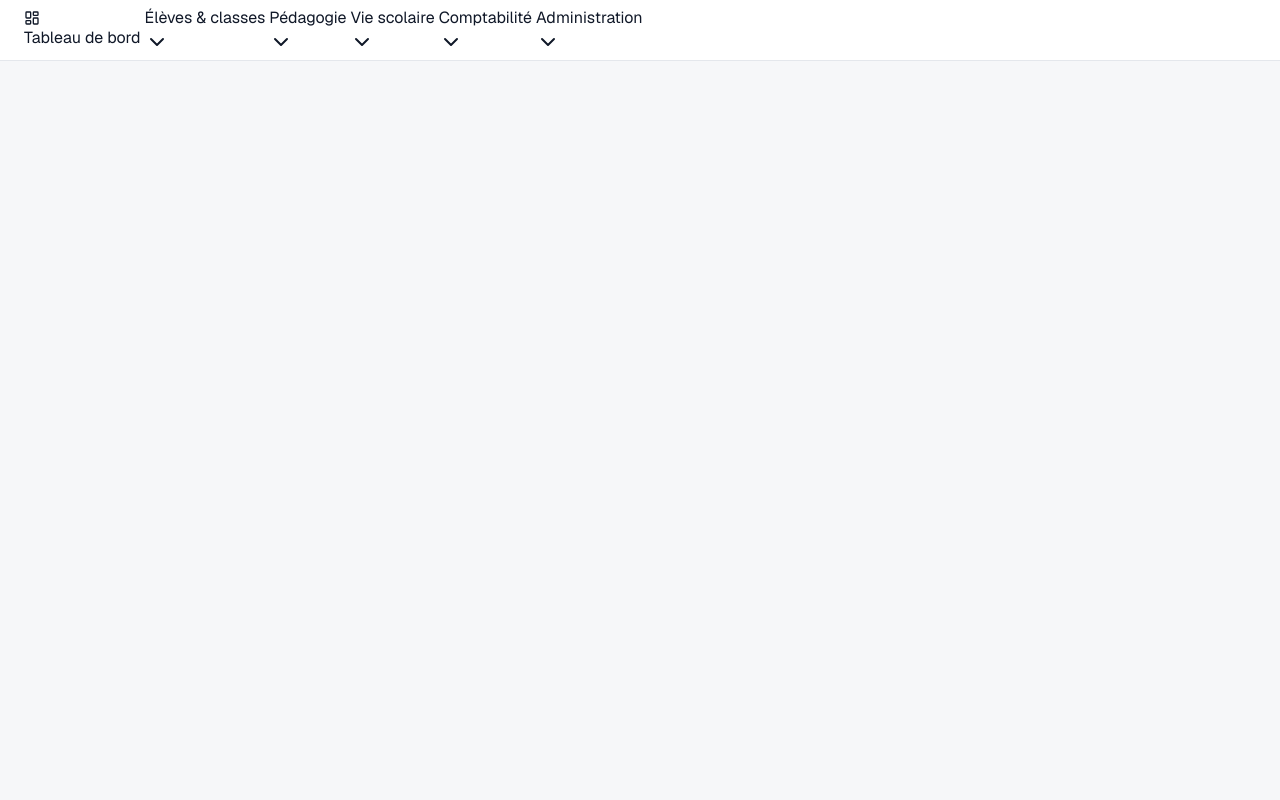
Scenario: HorizontalNav › closes with the same button, Escape, or a click elsewhere
The width and height of the screenshot is (1280, 800).
Click the button "Pédagogie": (308, 30) [269,6,346,54]
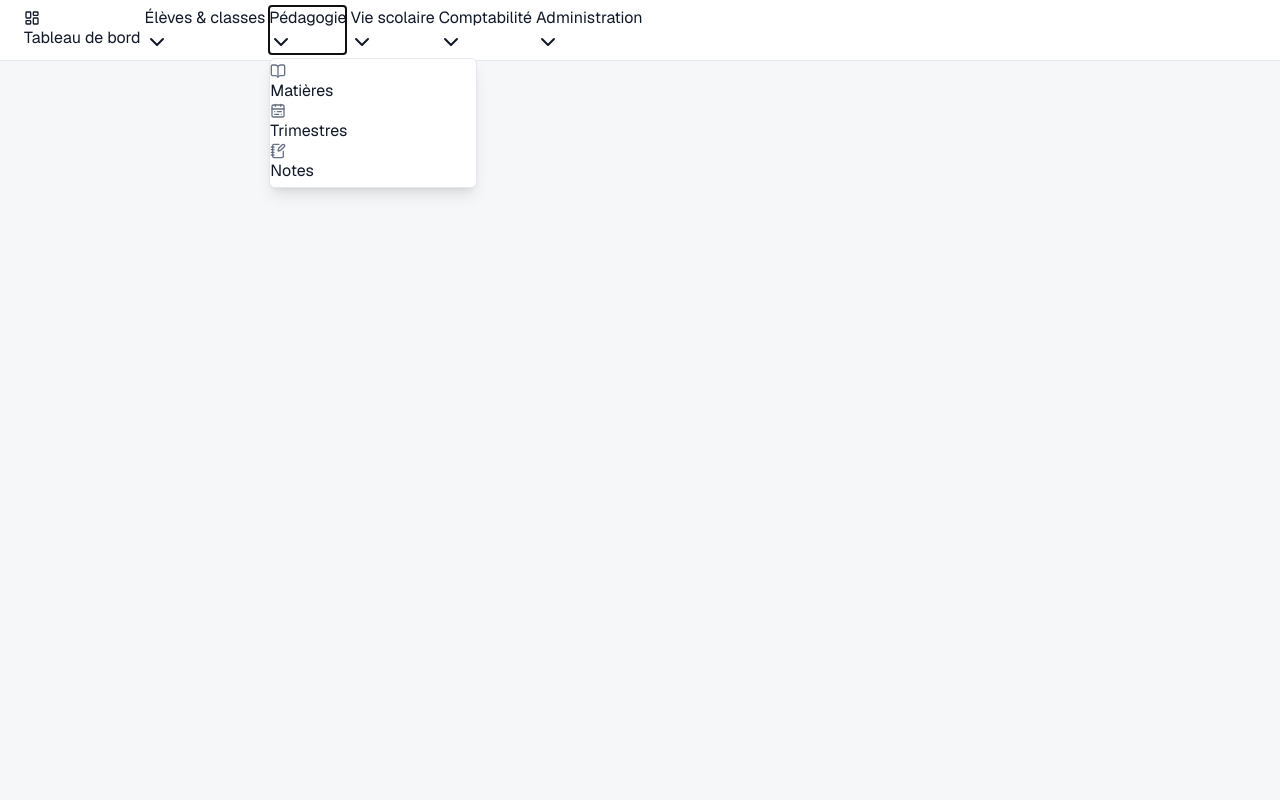
Click the button "Pédagogie": (308, 30) [269,6,346,54]
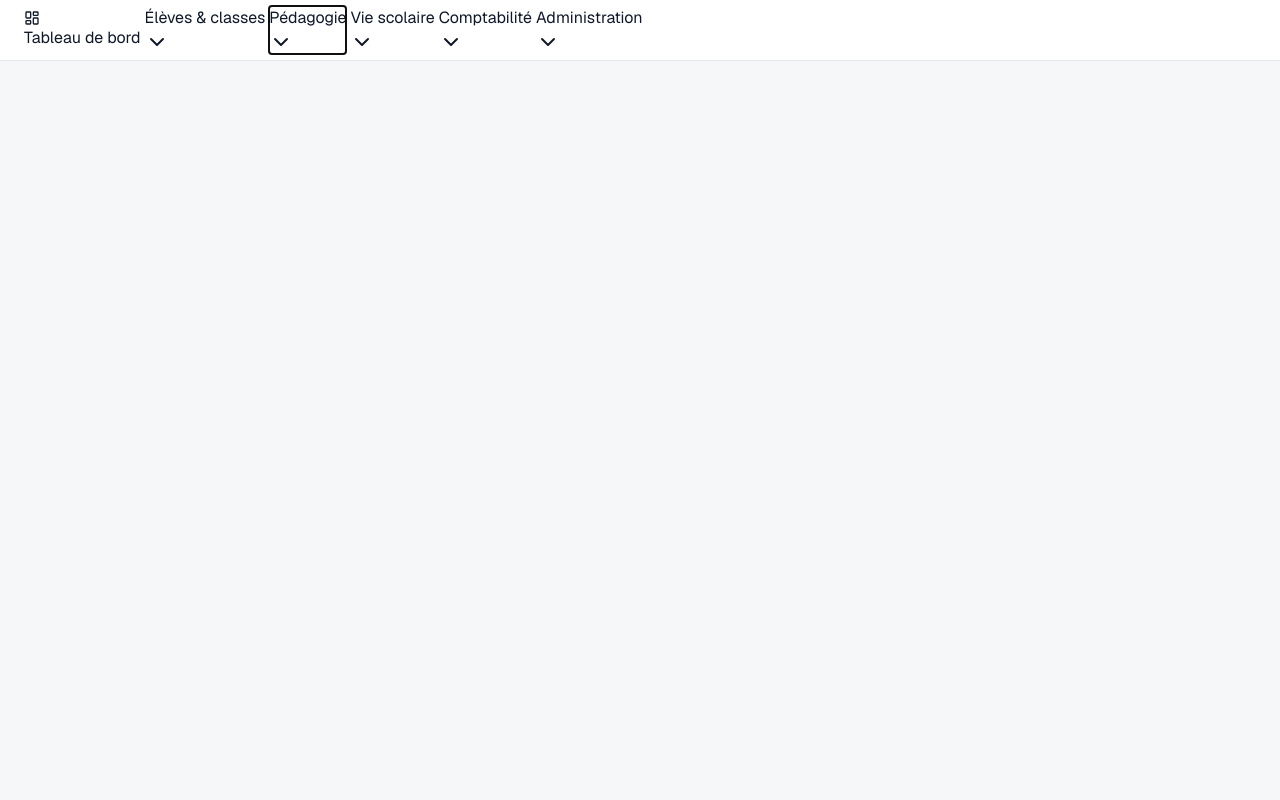
Check: the link "Notes" is gone
Click the button "Pédagogie": (308, 30) [269,6,346,54]
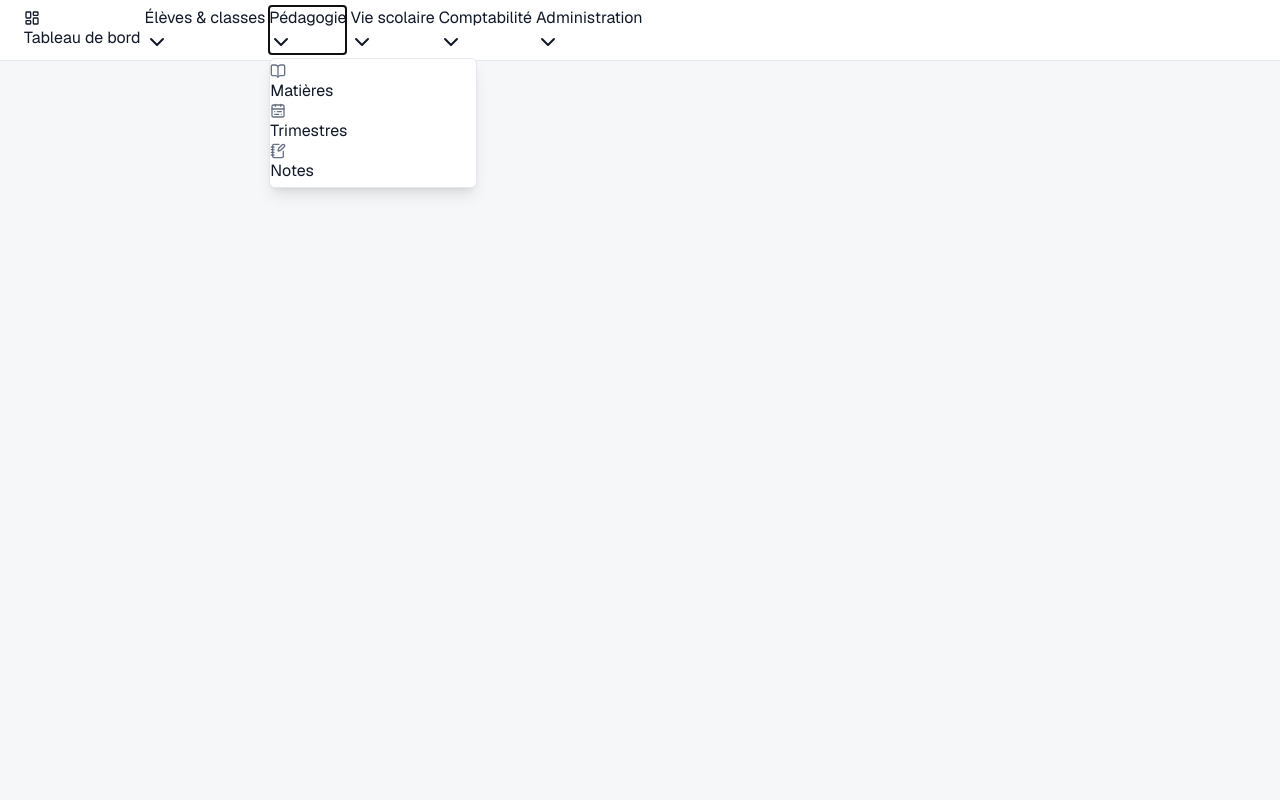
Press Escape
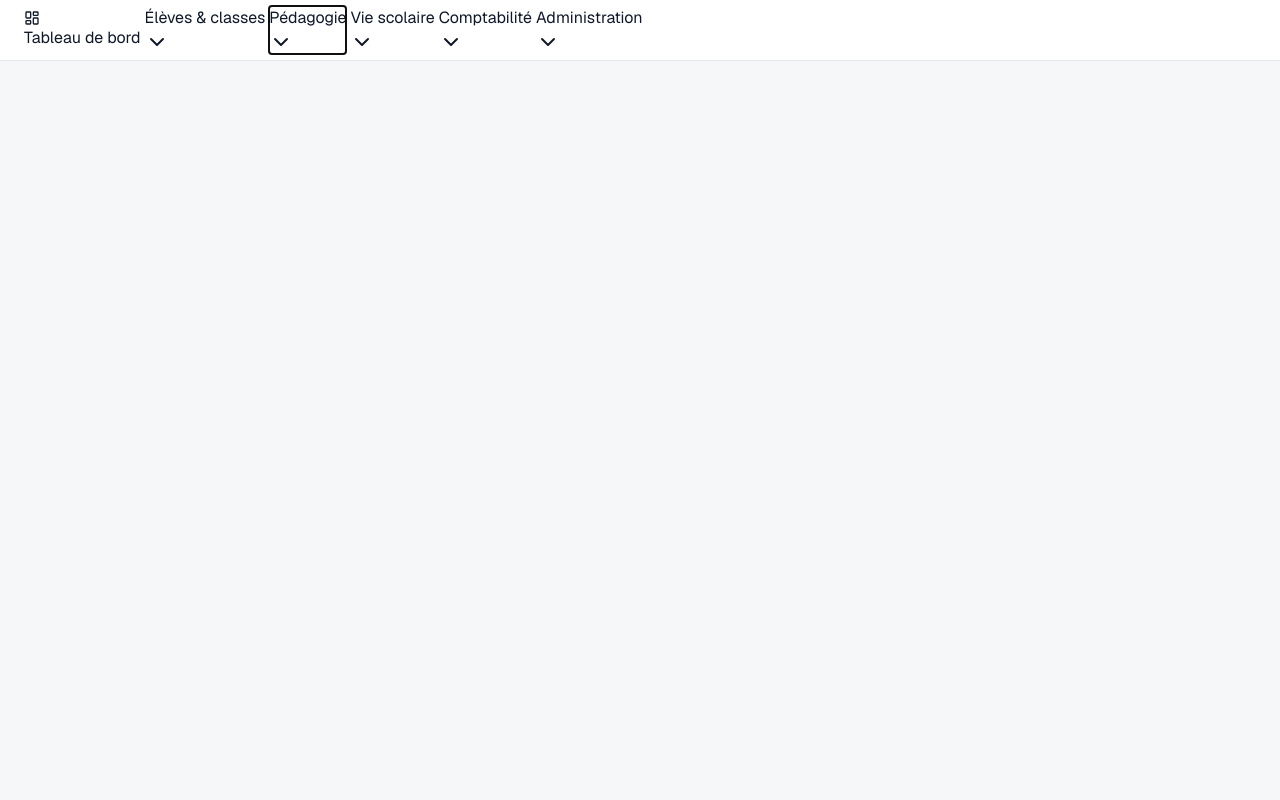
Check: the link "Notes" is gone
Click the button "Pédagogie": (308, 30) [269,6,346,54]
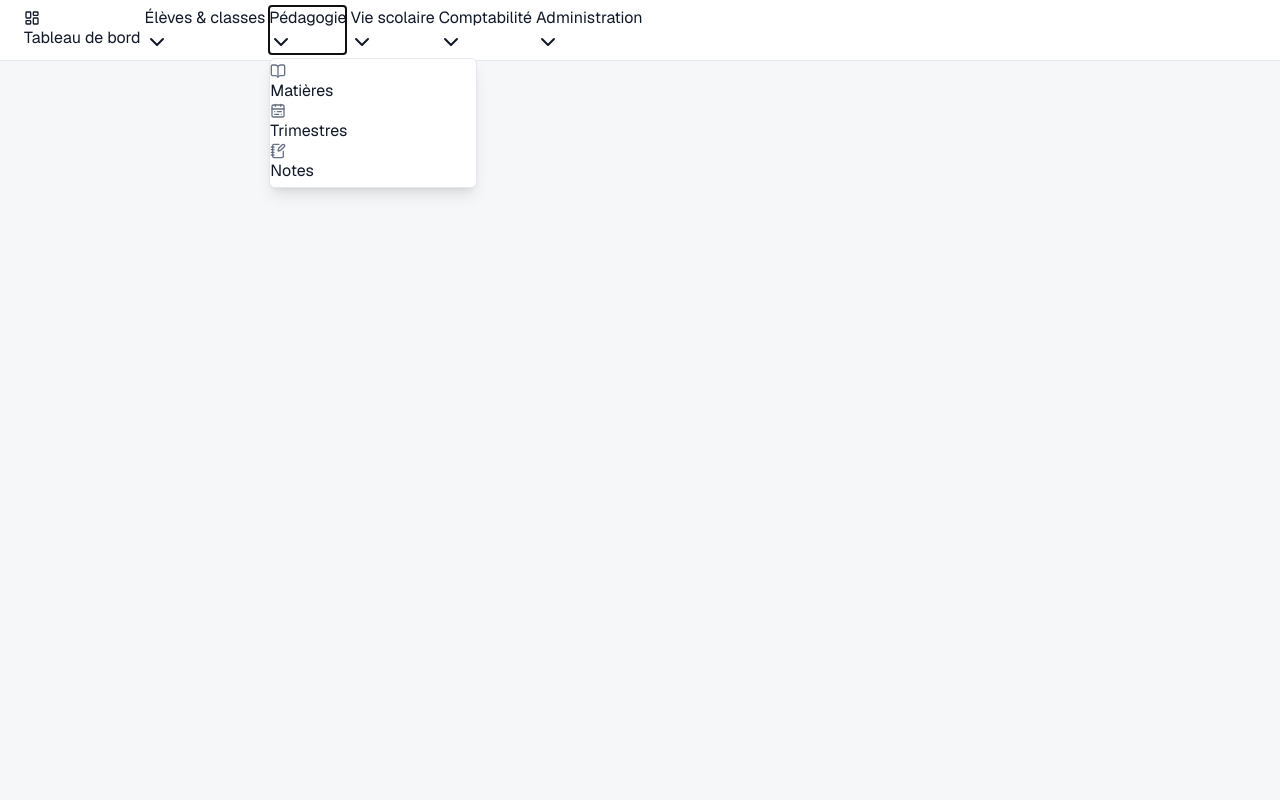
Click the element that starts with "Tableau de bord": (640, 400) [0,0,1279,799]
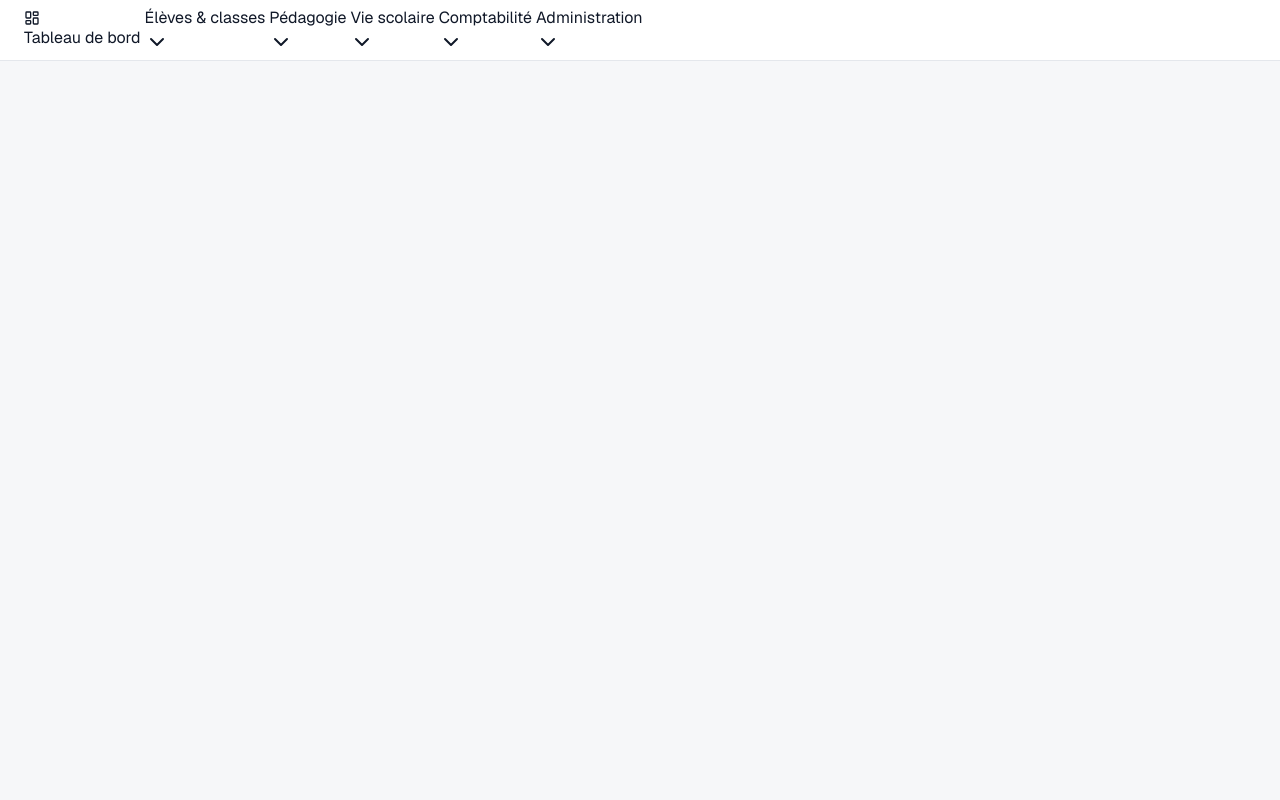
Check: the link "Notes" is gone
